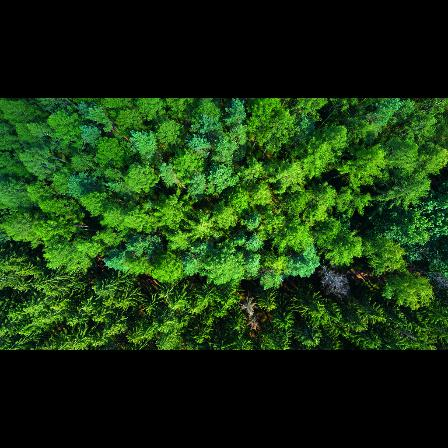Dead: (317, 264, 353, 301), (238, 292, 262, 332)
